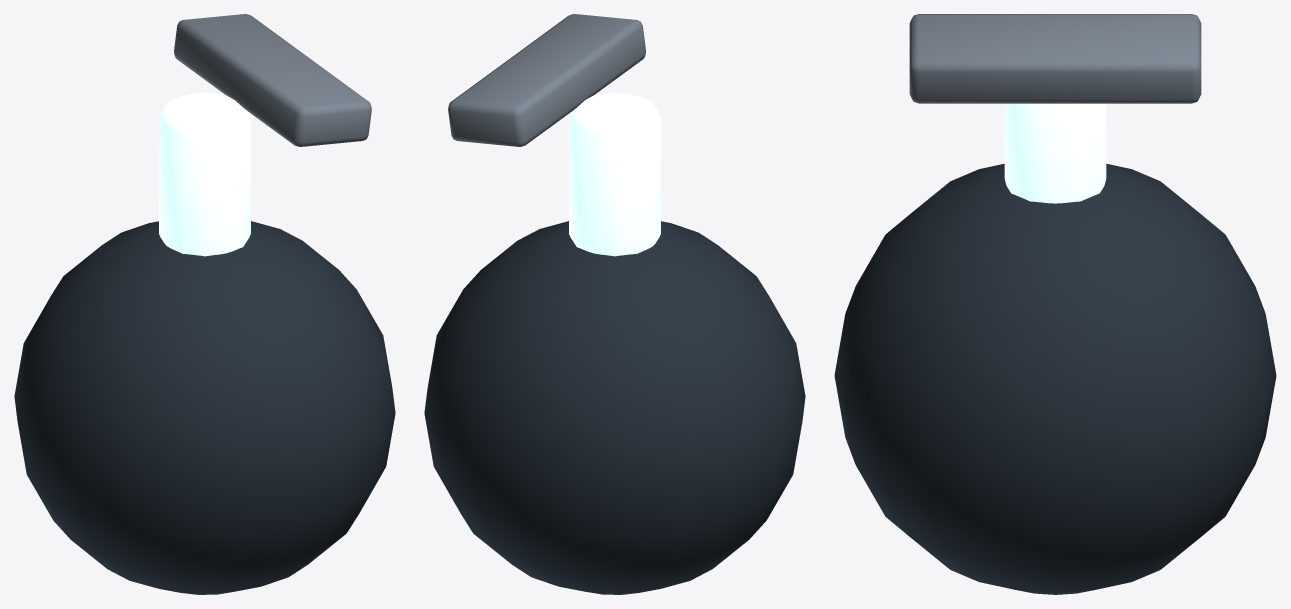
Rendered from Sentinel_GrenadeXL.fbx.
3 renders of one model, left to right at view 1: azimuth 30°, elevation 25°; view 2: azimuth 150°, elevation 25°; view 3: azimuth 270°, elevation 25°, orthographic. The views are drawn at different scales.
Visible parts, largest first — view 1: Core.001, SafetyLever.001, Fuse.001; view 2: Core.001, SafetyLever.001, Fuse.001; view 3: Core.001, SafetyLever.001, Fuse.001.
Part boxes in pixels (bbox=[...]): Core.001: bbox=[14, 221, 395, 594]; SafetyLever.001: bbox=[174, 14, 371, 146]; Fuse.001: bbox=[159, 92, 250, 256]; Core.001: bbox=[424, 221, 805, 594]; SafetyLever.001: bbox=[448, 14, 645, 146]; Fuse.001: bbox=[569, 92, 660, 256]; Core.001: bbox=[834, 163, 1276, 594]; SafetyLever.001: bbox=[909, 14, 1201, 103]; Fuse.001: bbox=[1004, 103, 1106, 203].
Size of the model in its own units: 88 by 128 by 88.
